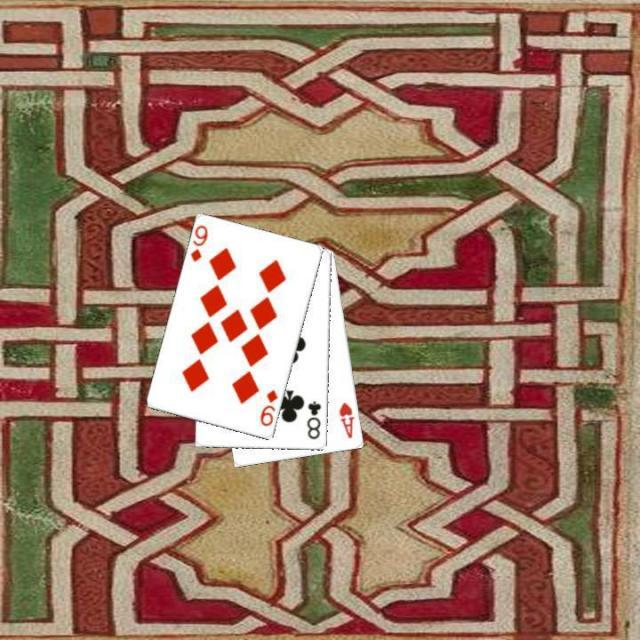8C: (303, 397, 323, 441)
9D: (256, 386, 280, 428), (187, 221, 210, 263)
AH: (335, 398, 357, 440)
